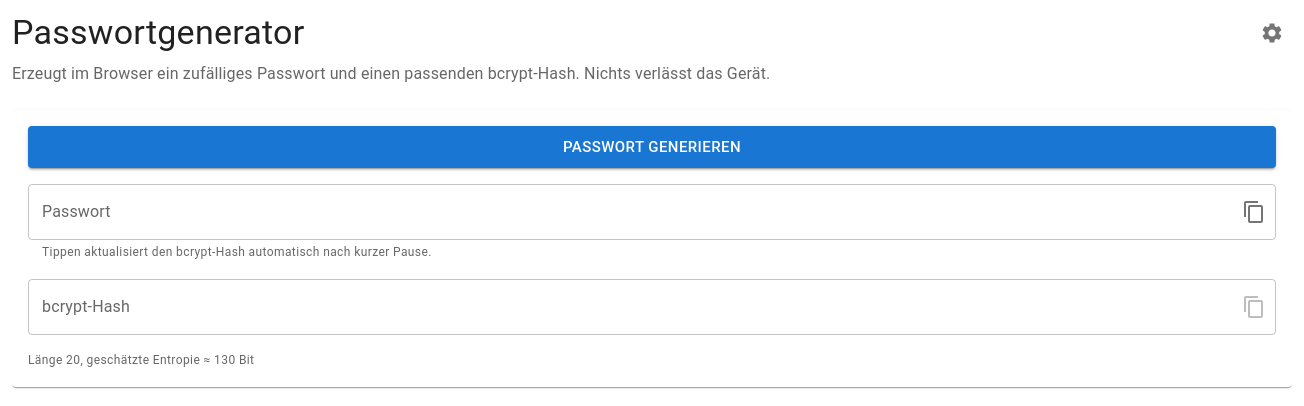
Test: PasswordPage › lets the user type their own password and updates the hash automatically
Type "hunter2" into the field labelled "Passwort" at (627, 212), box 28,184 -> 1226,240
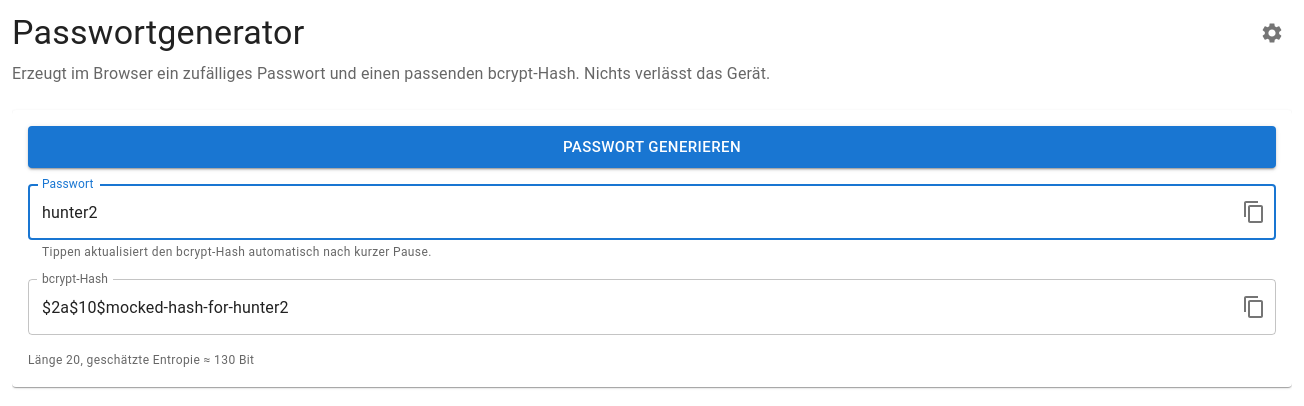
Now the field labelled "bcrypt-Hash" holds "$2a$10$mocked-hash-for-hunter2", box 28,279 -> 1226,335
